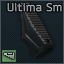MP-155 Ultima small recoil pad: (0, 0, 64, 64)
